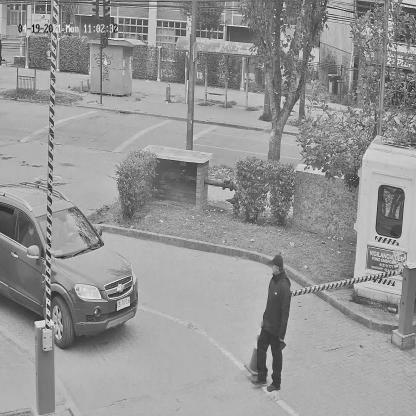Patente: (116, 295, 131, 313)
